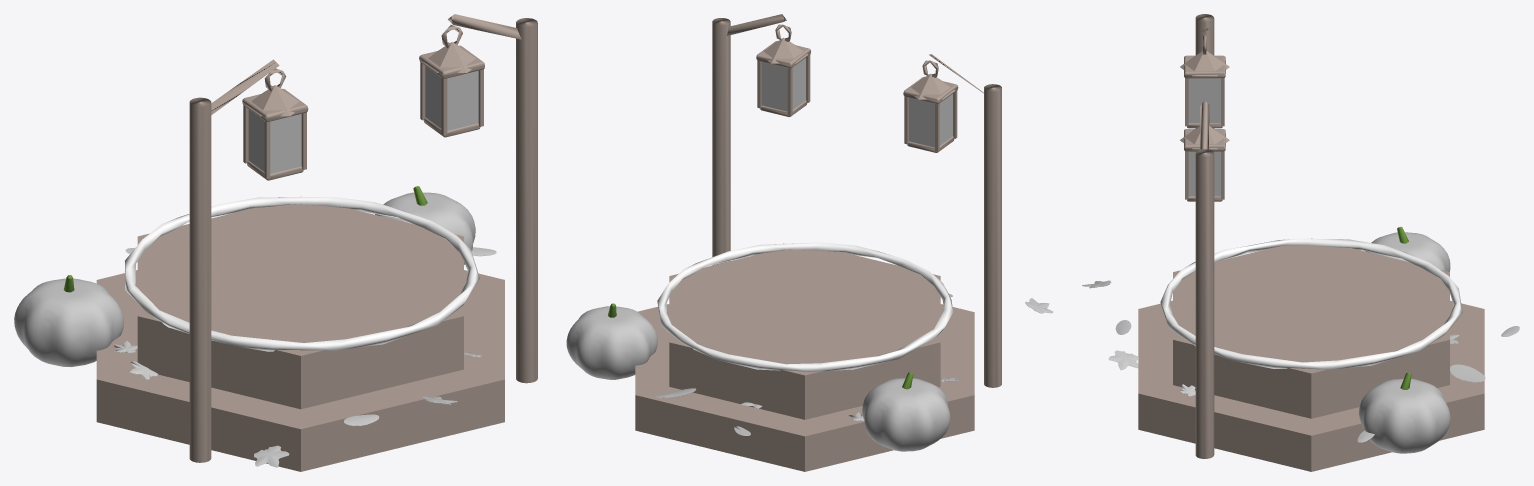
The model's file is HollowAltar.obj.
The picture shows the model from 3 angles, left to right: view 1: azimuth 30°, elevation 25°; view 2: azimuth 150°, elevation 25°; view 3: azimuth 270°, elevation 25°; orthographic projection. The views are drawn at different scales.
Visible parts, largest first — view 1: Stone, Leaf3, Ring, Lglass, Leaf2; view 2: Stone, Leaf3, Ring, Lglass, Leaf2; view 3: Stone, Leaf3, Ring, Lglass, Leaf2.
Part boxes in pixels (x1,y1,x2,y2): Stone: (96,14,537,471); Leaf3: (14,192,475,366); Ring: (125,197,479,351); Lglass: (248,66,478,173); Leaf2: (114,341,482,467); Stone: (635,14,1001,471); Leaf3: (566,306,950,451); Ring: (657,242,953,371); Lglass: (761,58,952,147); Leaf2: (656,298,1053,398); Stone: (1138,14,1484,471); Leaf3: (1359,232,1519,453); Ring: (1160,238,1462,369); Lglass: (1188,78,1220,196); Leaf2: (1082,280,1485,396).
Bounding box in the file's own units: 6.59 × 5.38 × 6.57.
